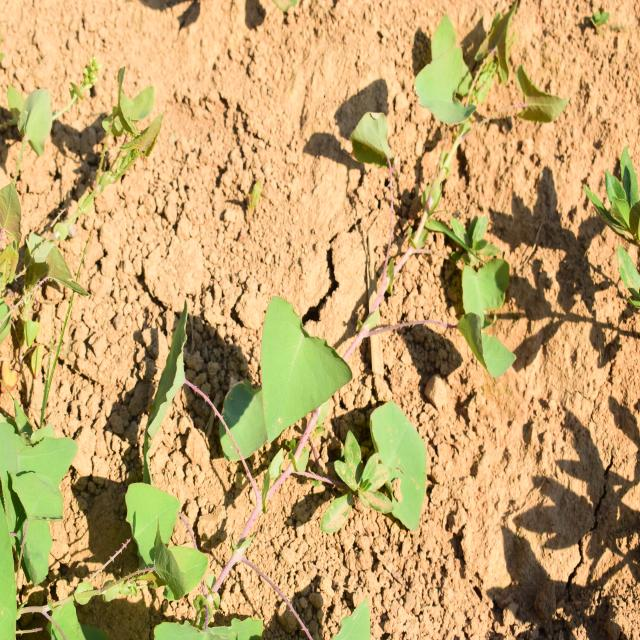Asiatic_Smartweed: (346, 9, 562, 195), (245, 296, 365, 442), (0, 429, 92, 597)
